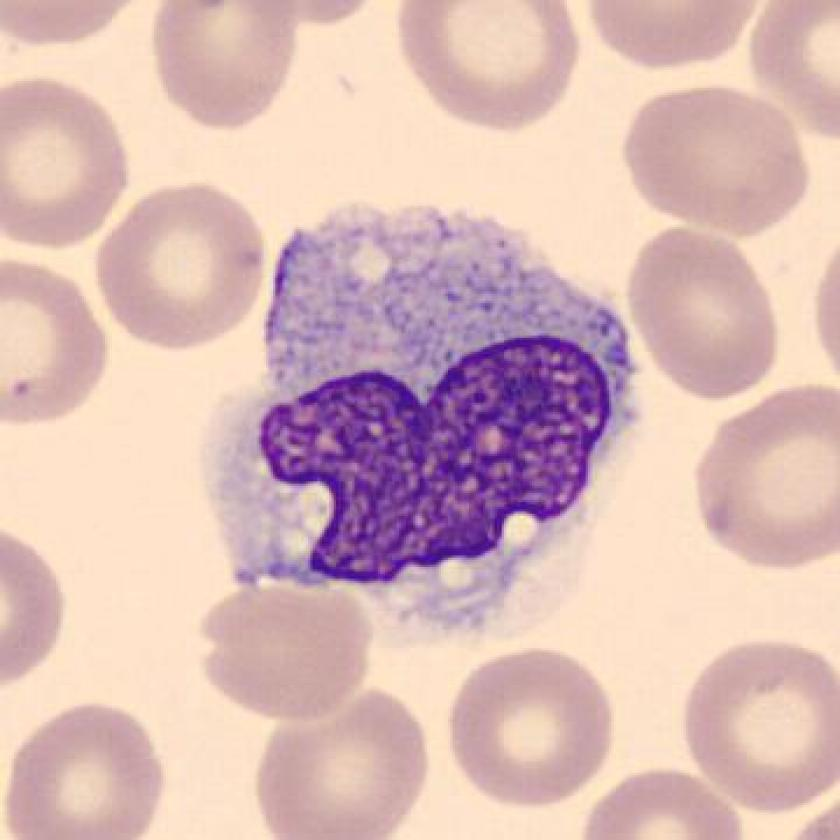monocyte: (183, 177, 664, 660)
